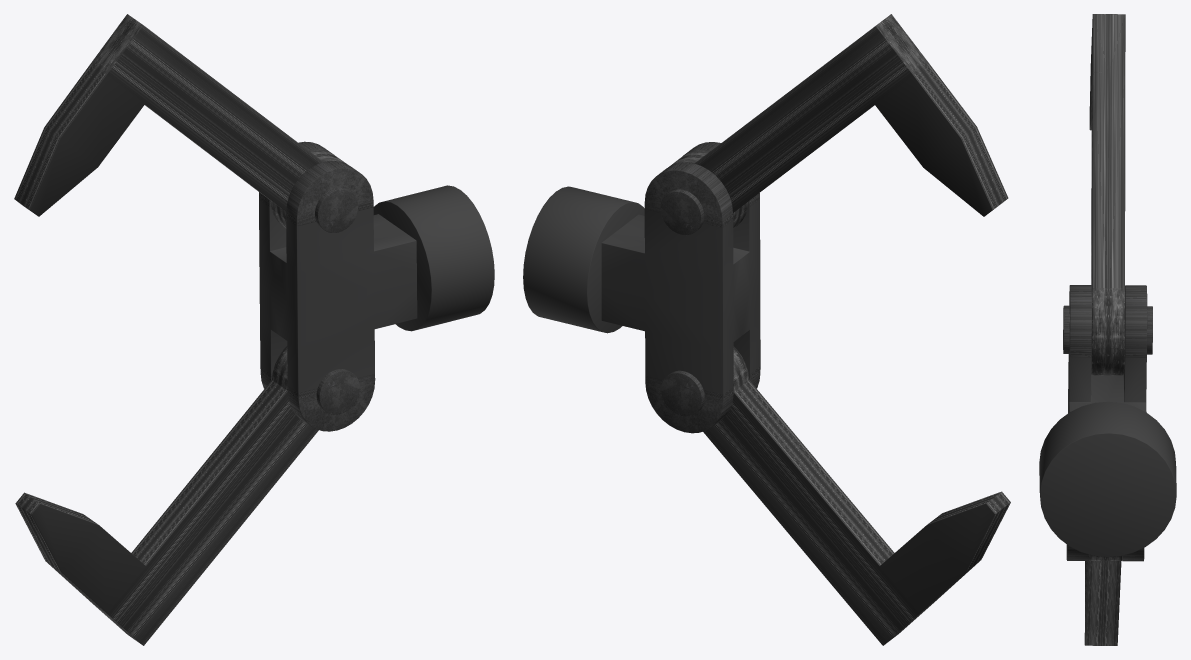
Rendered from BrazoGT.obj.
3 views of the same model, side by side, from view 1: azimuth 30°, elevation 25°; view 2: azimuth 150°, elevation 25°; view 3: azimuth 270°, elevation 25° (orthographic). The views are drawn at different scales.
Visible parts, largest first — view 1: Object_10_liso, Object_10_llanta; view 2: Object_10_liso, Object_10_llanta; view 3: Object_10_llanta, Object_10_liso.
Boxes of the visible parts, x1=… form: Object_10_liso: x1=14, y1=14, x2=346, y2=645; Object_10_llanta: x1=259, y1=141, x2=494, y2=431; Object_10_liso: x1=669, y1=14, x2=1010, y2=645; Object_10_llanta: x1=523, y1=142, x2=760, y2=433; Object_10_llanta: x1=1039, y1=285, x2=1176, y2=561; Object_10_liso: x1=1084, y1=14, x2=1125, y2=645.
Bounding box in the file's own units: 1.92 × 2.57 × 0.5047.
